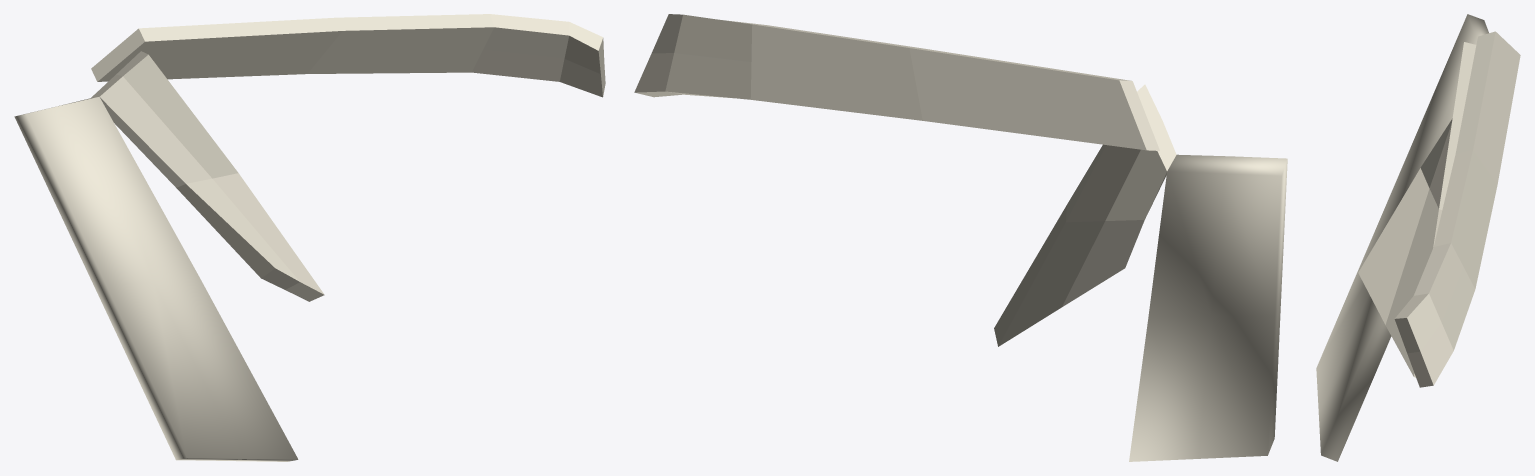
The picture shows the model from 3 angles, left to right: view 1: azimuth 30°, elevation 25°; view 2: azimuth 150°, elevation 25°; view 3: azimuth 270°, elevation 25°; orthographic projection. The views are drawn at different scales.
Visible parts, largest first — view 1: ZA_03f4f1b702cfd50a; view 2: ZA_03f4f1b702cfd50a; view 3: ZA_03f4f1b702cfd50a.
Part boxes in pixels (left/top/right/bottom): ZA_03f4f1b702cfd50a: left=14, top=14, right=605, bottom=461; ZA_03f4f1b702cfd50a: left=634, top=14, right=1287, bottom=461; ZA_03f4f1b702cfd50a: left=1316, top=14, right=1520, bottom=461.
Bounding box in the file's own units: 0.0171 × 0.0114 × 0.00532.
